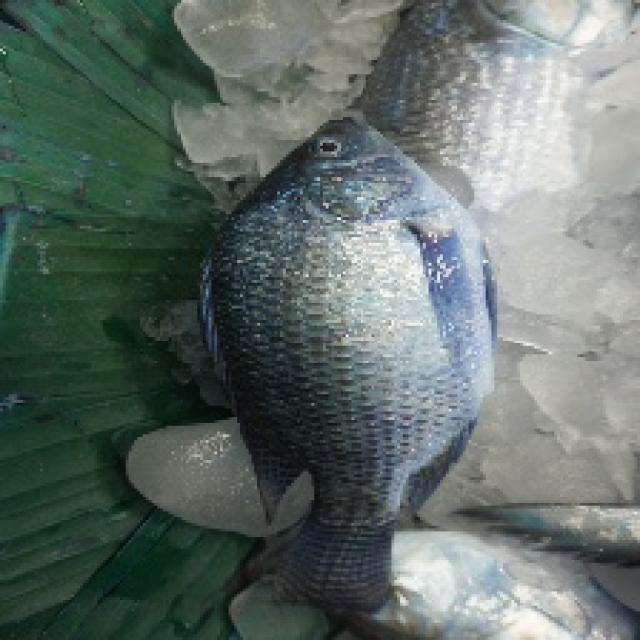Fresh: (243, 91, 492, 600)
